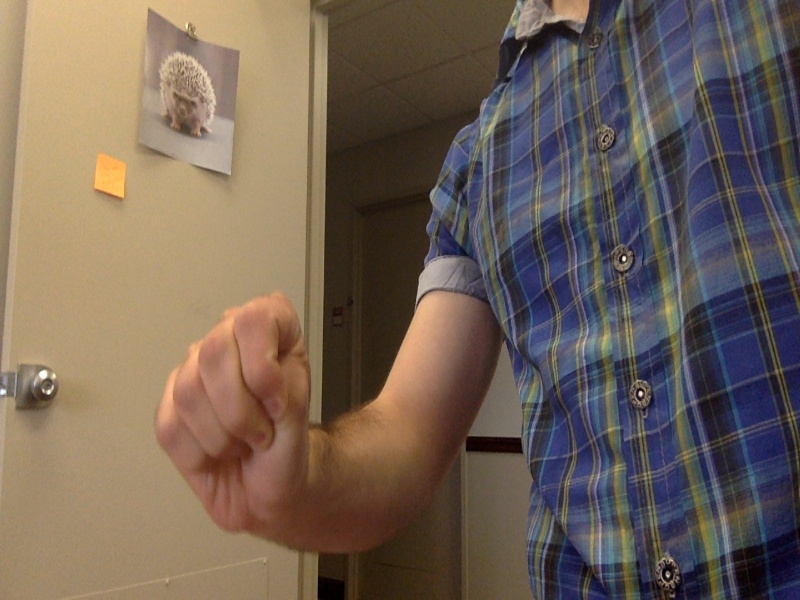0-hand: (151, 294, 323, 540)
